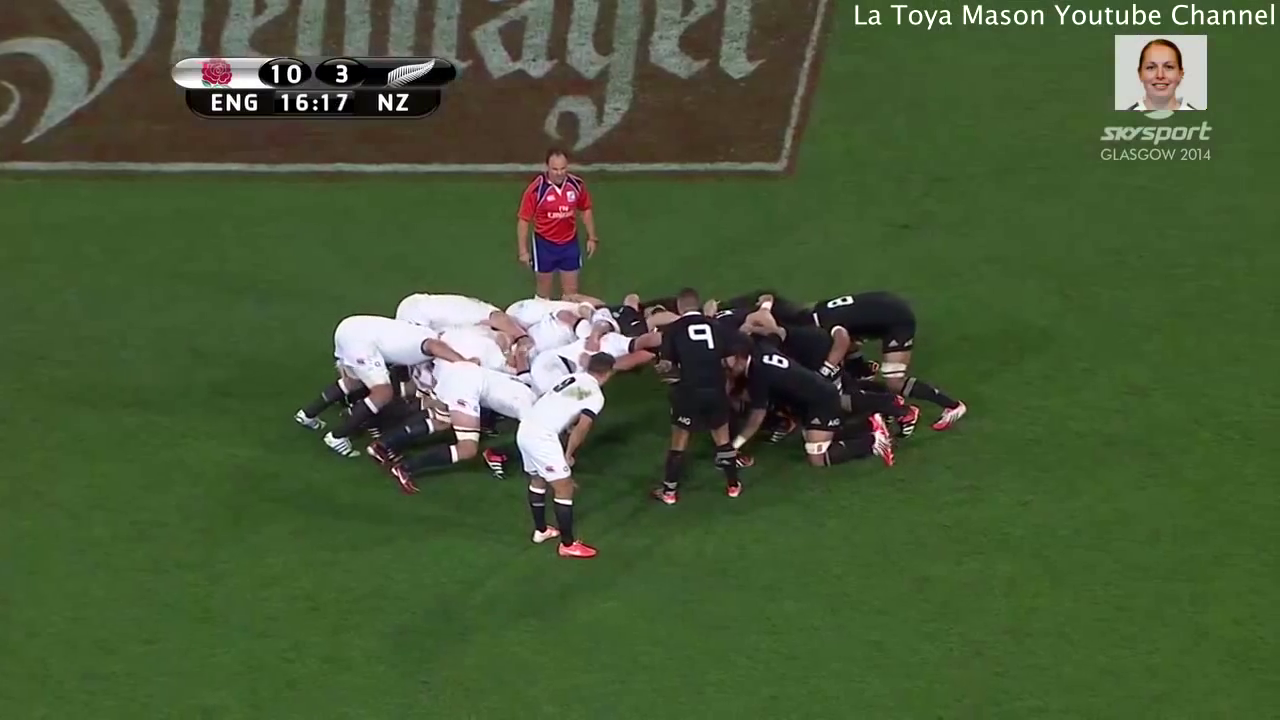player: (783, 282, 978, 437), (706, 329, 906, 473), (627, 284, 749, 509), (354, 356, 544, 497), (289, 308, 455, 464), (506, 348, 618, 571), (504, 144, 610, 312)
scrum: (286, 275, 988, 511)
